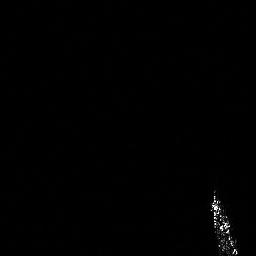ship: (211, 187, 242, 256)
